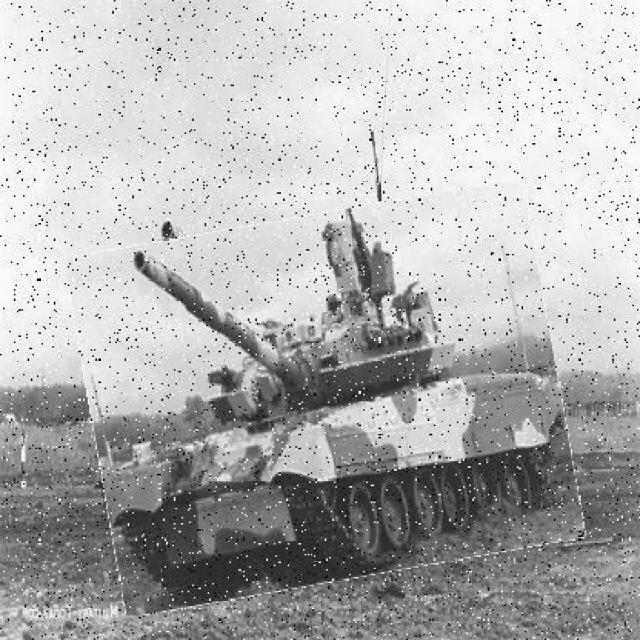Tank: (80, 198, 574, 599)
